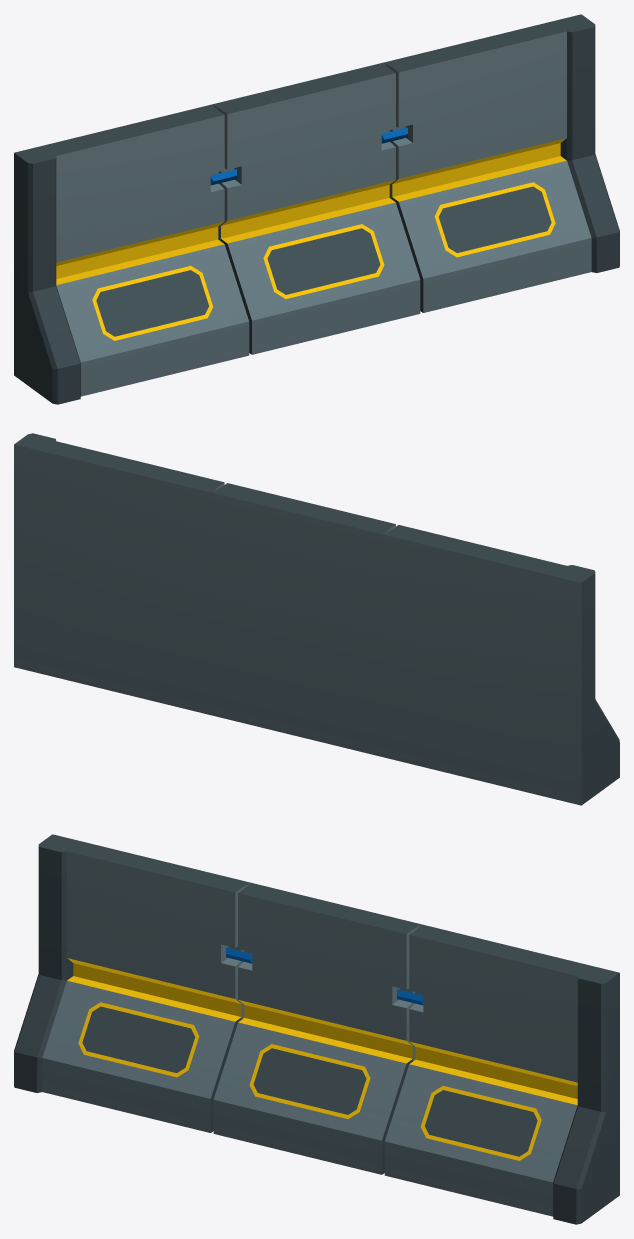
File: Wall_type_C_026.fbx
3 renders of one model, top to bottom at view 1: azimuth 30°, elevation 25°; view 2: azimuth 150°, elevation 25°; view 3: azimuth 330°, elevation 25°, orthographic.
Parts seen in each view (by area): view 1: Wall_type_C_026; view 2: Wall_type_C_026; view 3: Wall_type_C_026.
Boxes of the visible parts, x1,y1,x2,y2 form: Wall_type_C_026: (14,14,619,404); Wall_type_C_026: (14,433,619,805); Wall_type_C_026: (14,834,619,1224).
Bounding box in the file's own units: 400 × 50 × 150.
